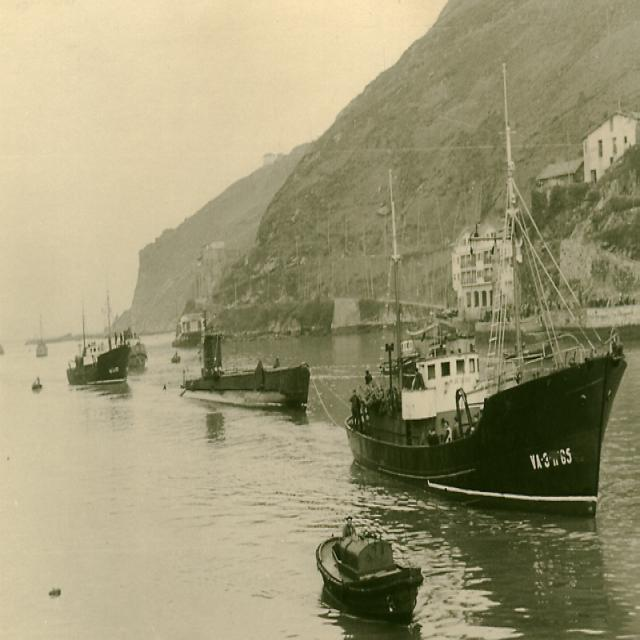submarine: (172, 322, 309, 409)
